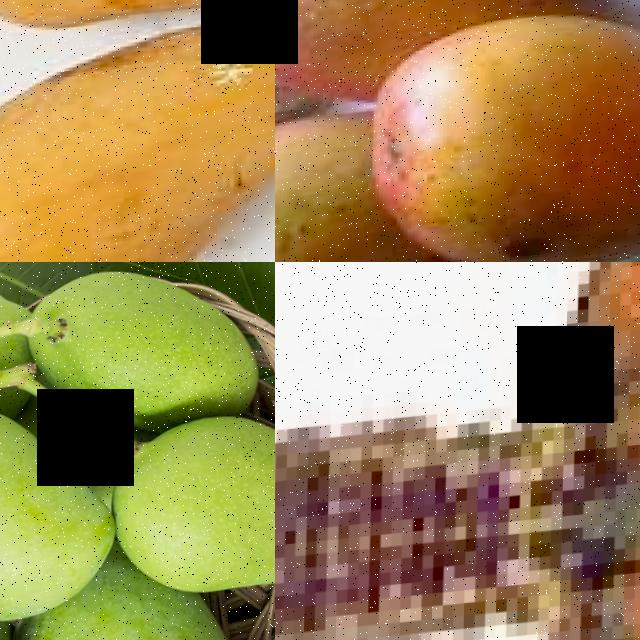lobster tails: (275, 262, 640, 640)
mango: (366, 0, 640, 262), (0, 17, 275, 262), (25, 265, 259, 439), (110, 415, 275, 613), (0, 398, 118, 640), (275, 0, 613, 55), (275, 105, 376, 262), (0, 0, 275, 57), (16, 597, 247, 640)
